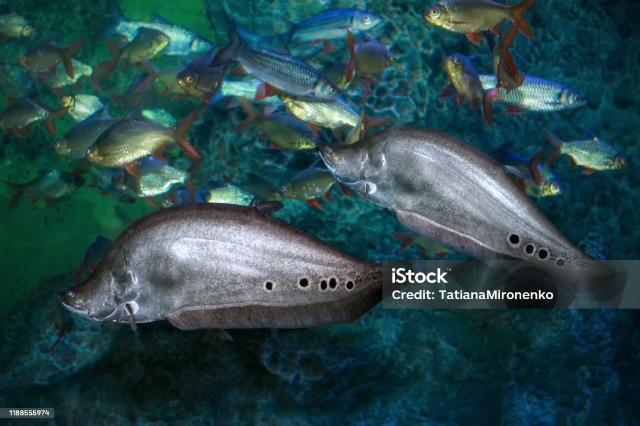Mulut: (49, 282, 100, 330), (309, 136, 343, 182)
Sirip Dada: (351, 174, 387, 220), (116, 300, 152, 339)
Sirip Ekor: (167, 103, 206, 165), (210, 16, 248, 76), (338, 30, 367, 90), (229, 85, 261, 137), (508, 0, 544, 42), (55, 36, 89, 80), (522, 144, 552, 192), (37, 102, 73, 140), (482, 82, 502, 126), (96, 44, 114, 89)
Sirip Punggung: (498, 152, 532, 190), (247, 196, 289, 210)
